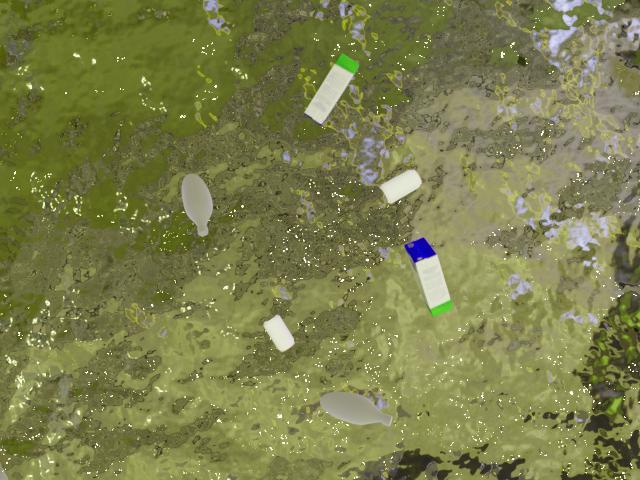Metal: (244, 310, 317, 355), (374, 162, 428, 211)
Plastic: (299, 379, 410, 441), (170, 158, 233, 252)
Trash: (303, 31, 361, 143), (397, 241, 474, 317)
